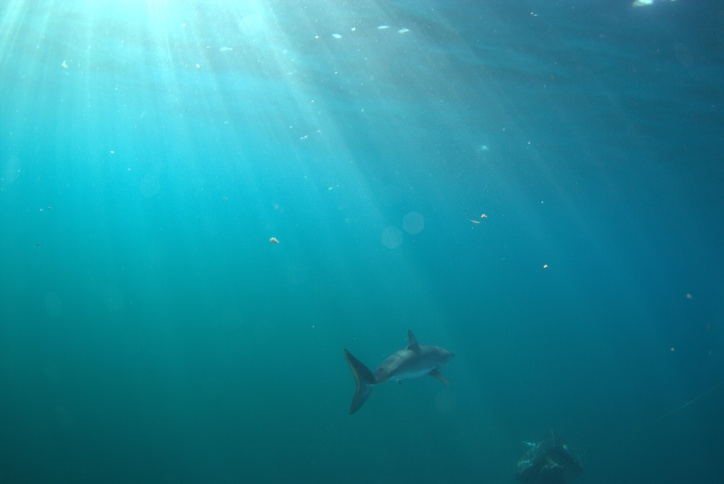Mako: (327, 324, 478, 419)
